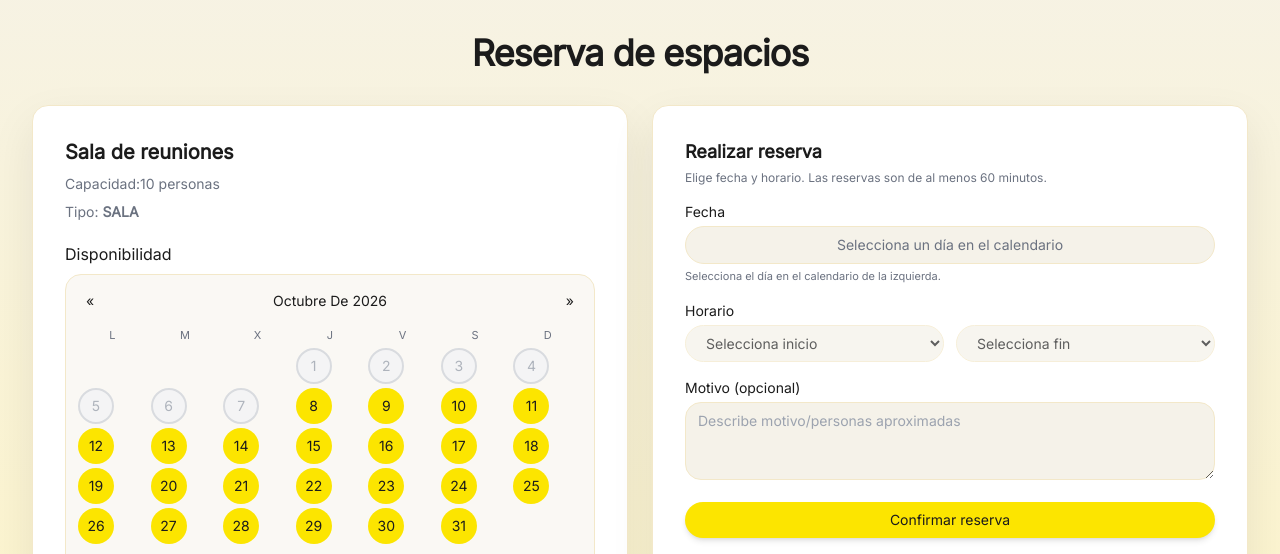
CrearReserva page (componente / integración) › muestra el nombre del usuario que ocupa una reserva del día
Expected: the heading "Reserva de espacios" is shown, [472, 31, 808, 75]
Click the button "8". click: {"x": 314, "y": 406}
box: [296, 388, 332, 424]
(page scrolled)
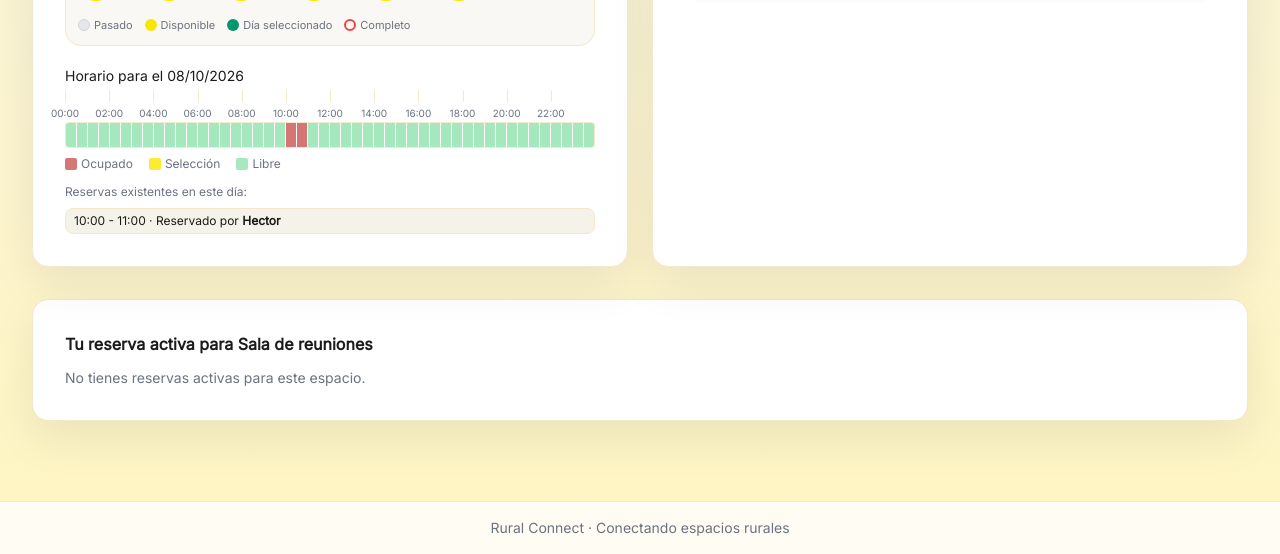
Expected: the list item "10:00 - 11:00 · Reservado por Hector" is shown, [65, 208, 595, 234]
Expected: the text "Hector" is shown, [242, 213, 281, 228]
